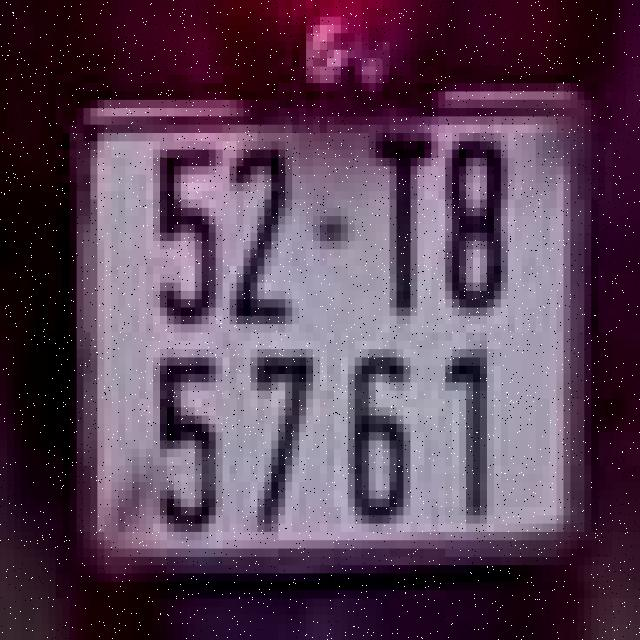1: (431, 328, 494, 528)
2: (223, 133, 299, 332)
5: (143, 353, 233, 544), (150, 137, 226, 328)
6: (330, 341, 421, 532)
7: (240, 349, 317, 540)
8: (442, 125, 511, 324)
T: (358, 125, 442, 324)
